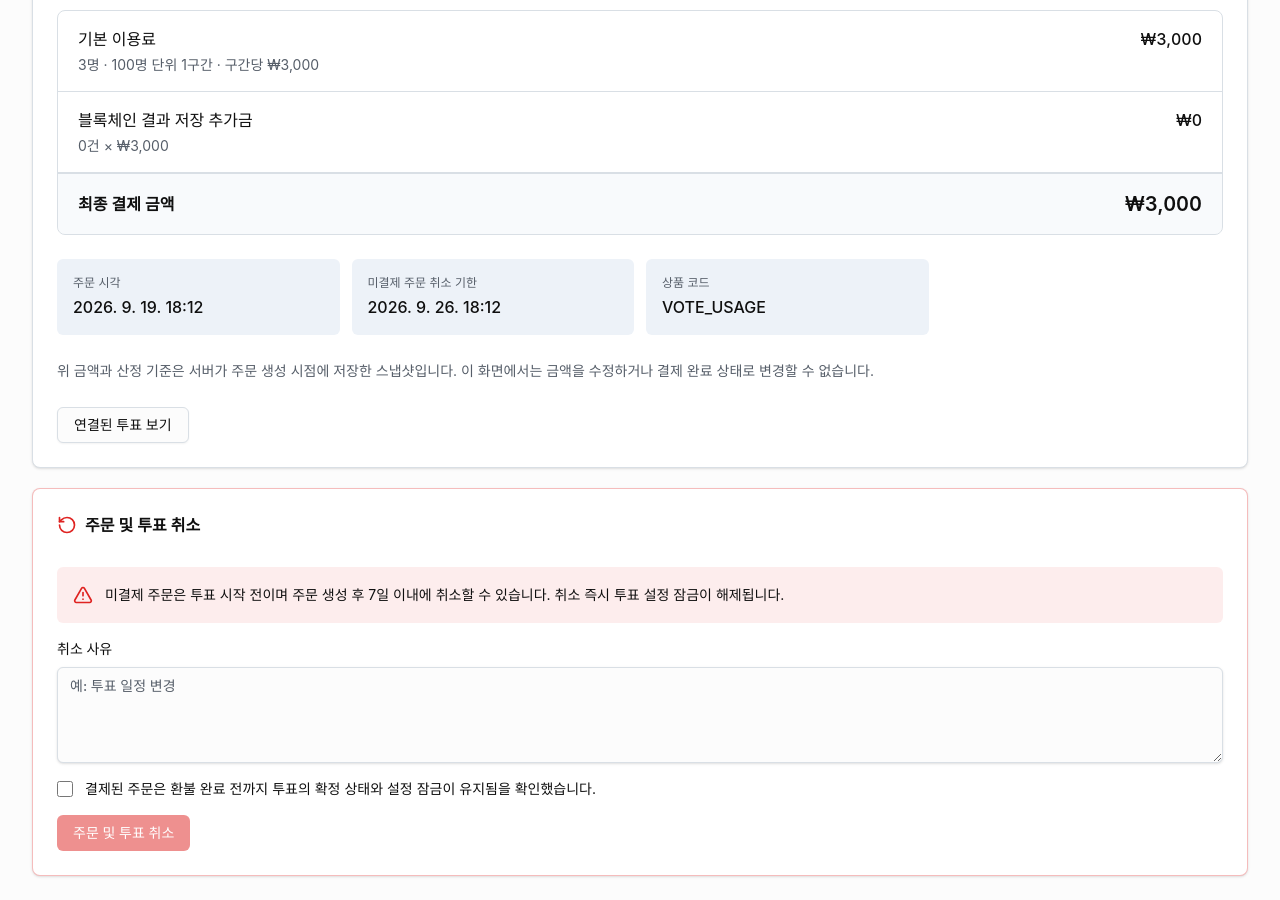
Test case: billing order UI › shows the server price snapshot and cancels after confirmation
The width and height of the screenshot is (1280, 900).
(page scrolled)
Expected: the text "₩3,000" is shown 2 times, [1140, 27, 1202, 51]; [1125, 190, 1202, 218]
Expected: the text "3명 · 100명 단위 1구간 · 구간당 ₩3,000" is shown, [78, 55, 319, 75]
Type "투표 일정 변경" into the text box labelled "취소 사유" at (640, 715), box [57, 667, 1223, 763]
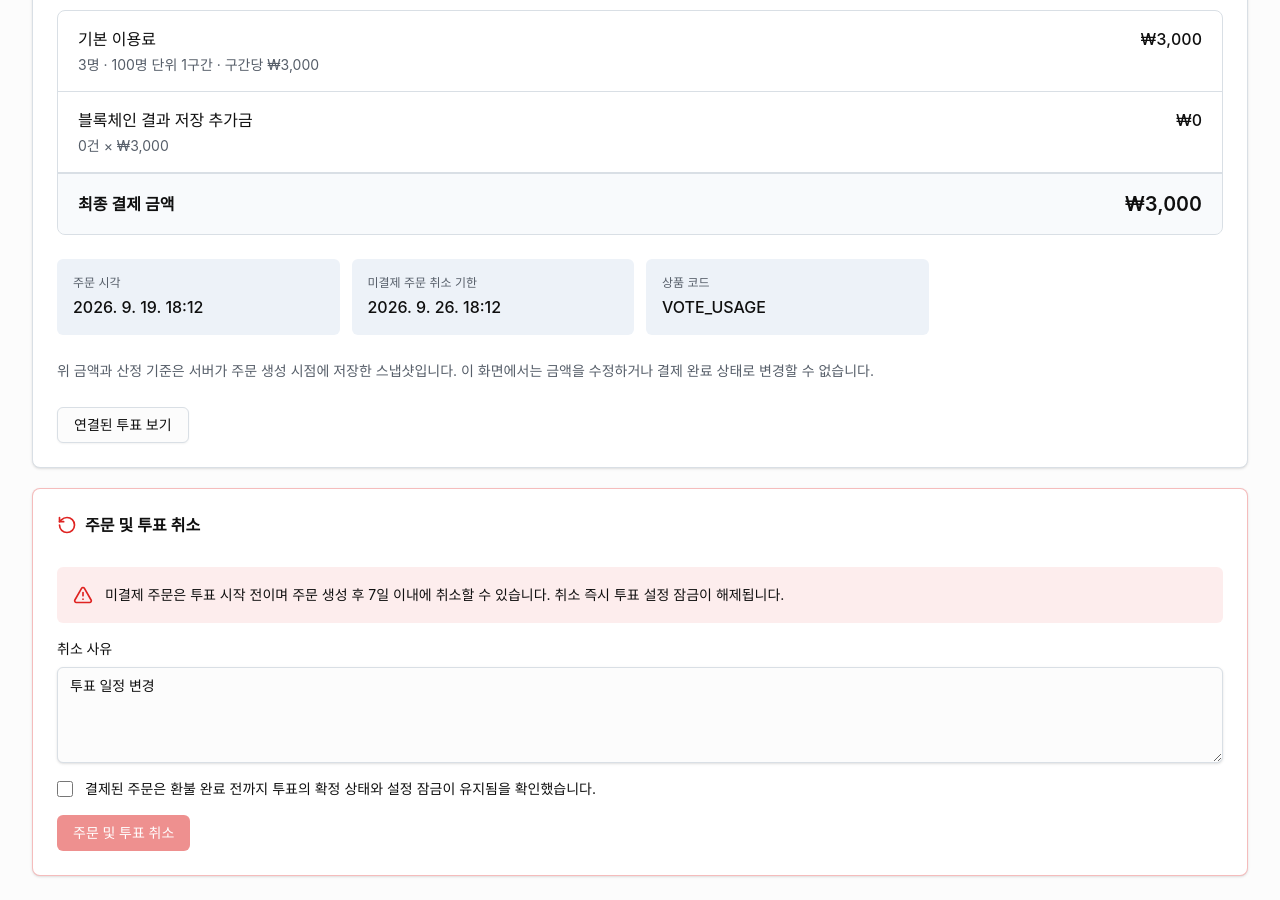
Click the text "결제된 주문은 환불 완료 전까지 투표의 확정 상태와 설정 잠금이 유지됨을 확인했습니다." at (340, 789), box [85, 779, 596, 799]
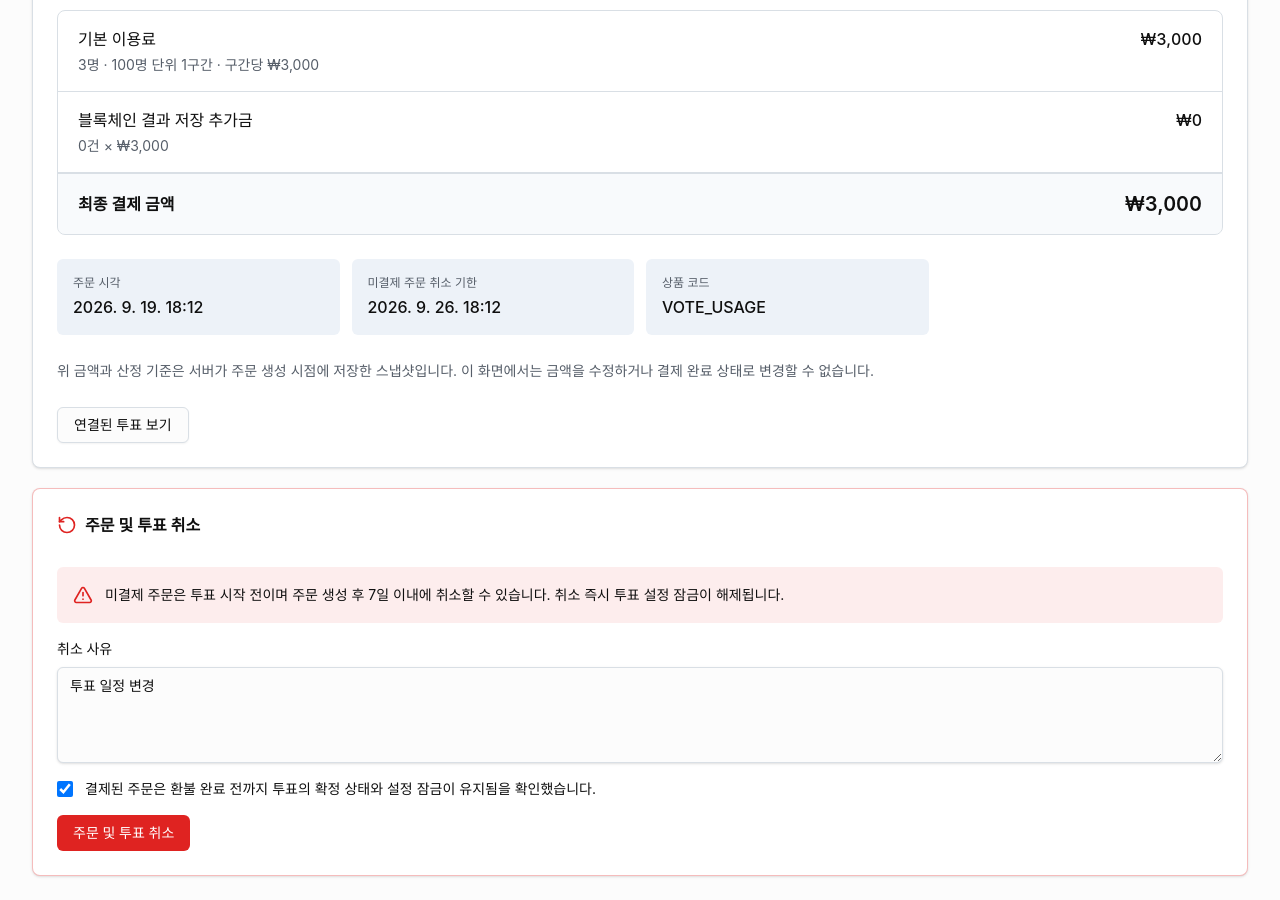
Click the button "주문 및 투표 취소" at (124, 833), box [57, 815, 190, 851]
(page scrolled)
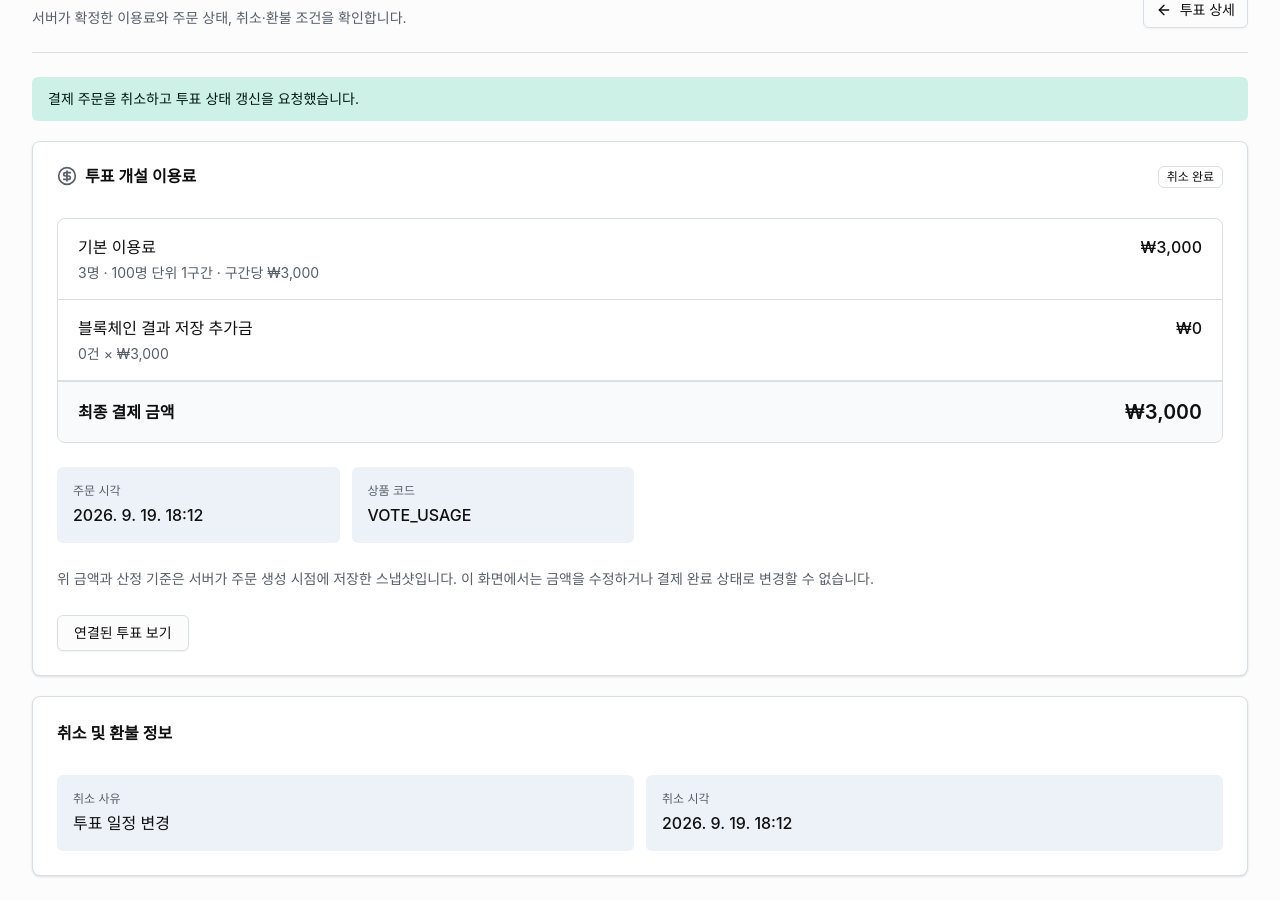
Now the text "취소 완료" is shown, box [1158, 166, 1223, 188]
Now the text "투표 일정 변경" is shown, box [73, 813, 170, 833]
Now the text "결제 주문을 취소하고 투표 상태 갱신을 요청했습니다." is shown, box [32, 77, 1248, 121]
